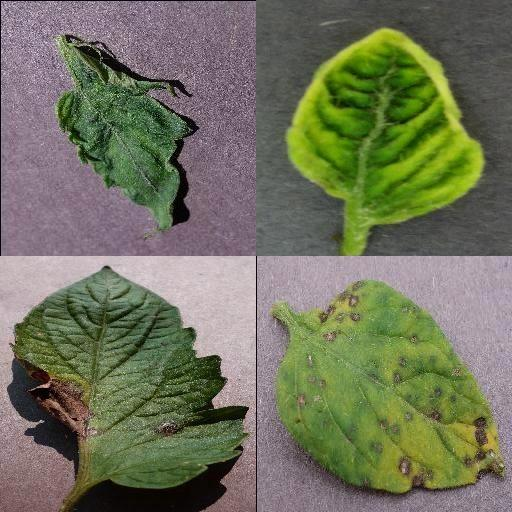Late Blight: (11, 263, 249, 491)
Mosaic Virus: (55, 56, 193, 232)
Septoria: (275, 279, 507, 494)
Yellow Leaf Curl Virus: (287, 27, 486, 225)
